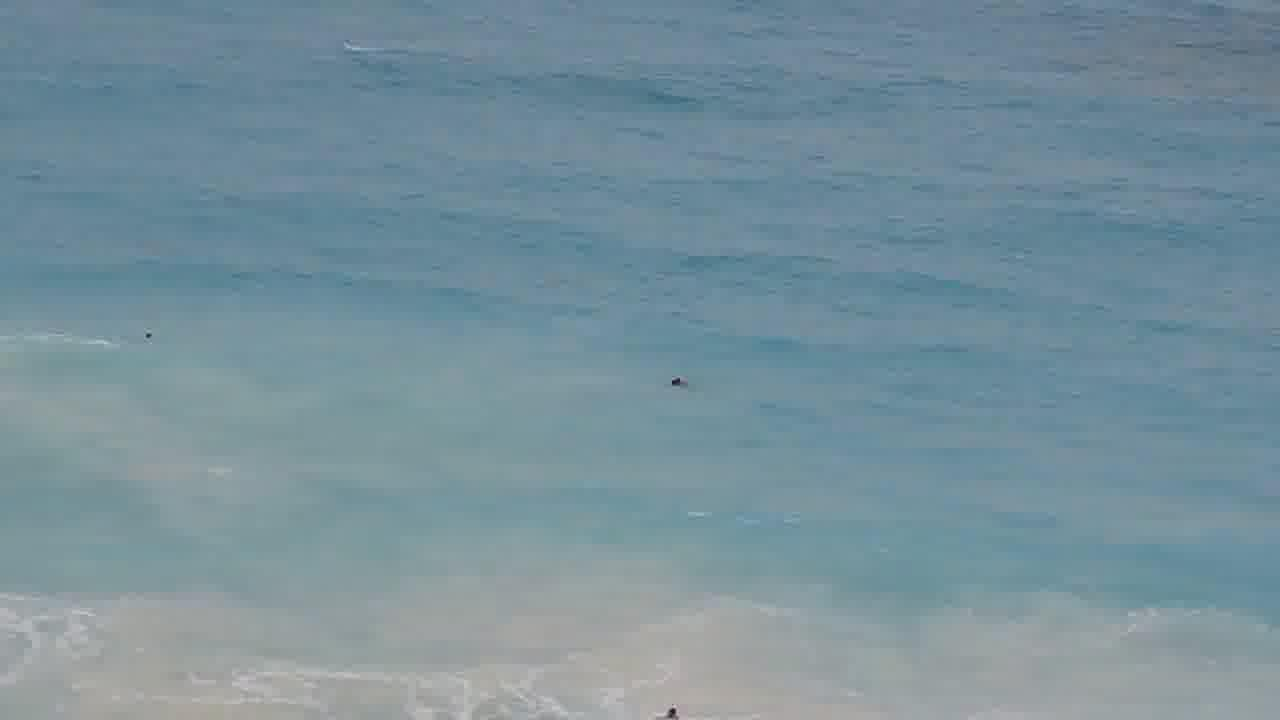human: (658, 368, 698, 404), (649, 699, 704, 720), (134, 328, 174, 350)
